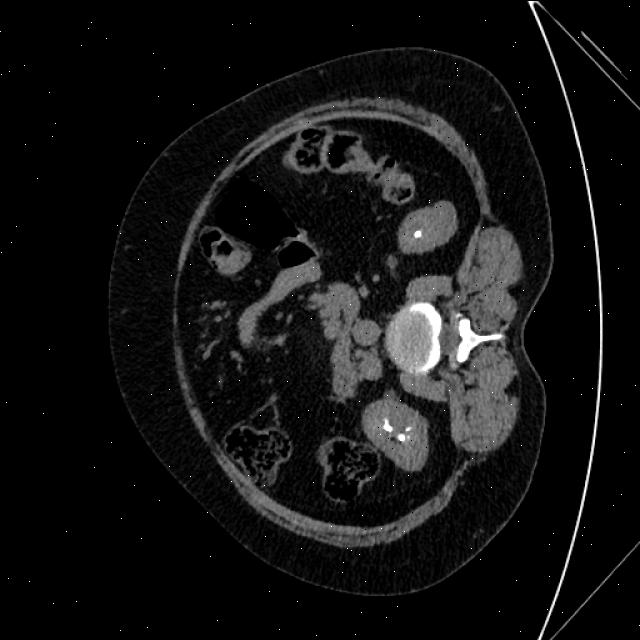kidneystone: (383, 418, 393, 431), (414, 229, 422, 238), (397, 434, 404, 444)
